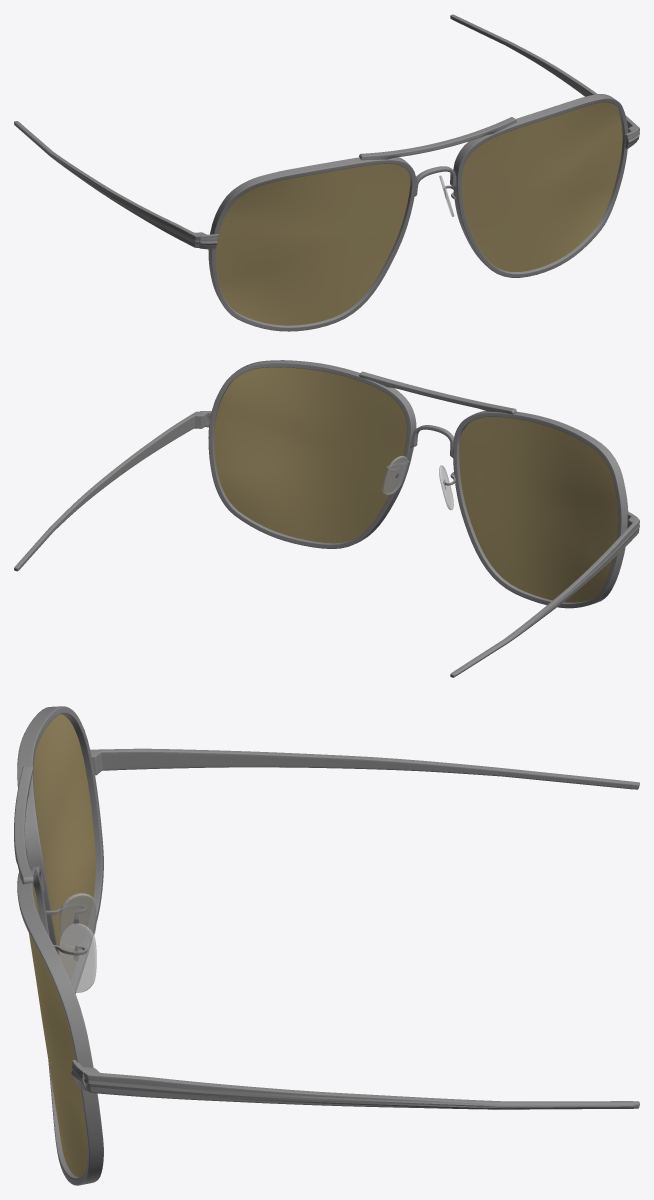
File: chromance_matstandard_ajustado.glb
3 renders of one model, top to bottom at view 1: azimuth 30°, elevation 25°; view 2: azimuth 150°, elevation 25°; view 3: azimuth 270°, elevation 25°, orthographic. The views are drawn at different scales.
Parts seen in each view (by area): view 1: armacao; view 2: armacao; view 3: armacao.
Part boxes in pixels (<box>): armacao: <box>14,14,639,331</box>; armacao: <box>14,360,639,677</box>; armacao: <box>14,706,639,1185</box>.
Size of the model in its own units: 0.157 by 0.0556 by 0.1217.
